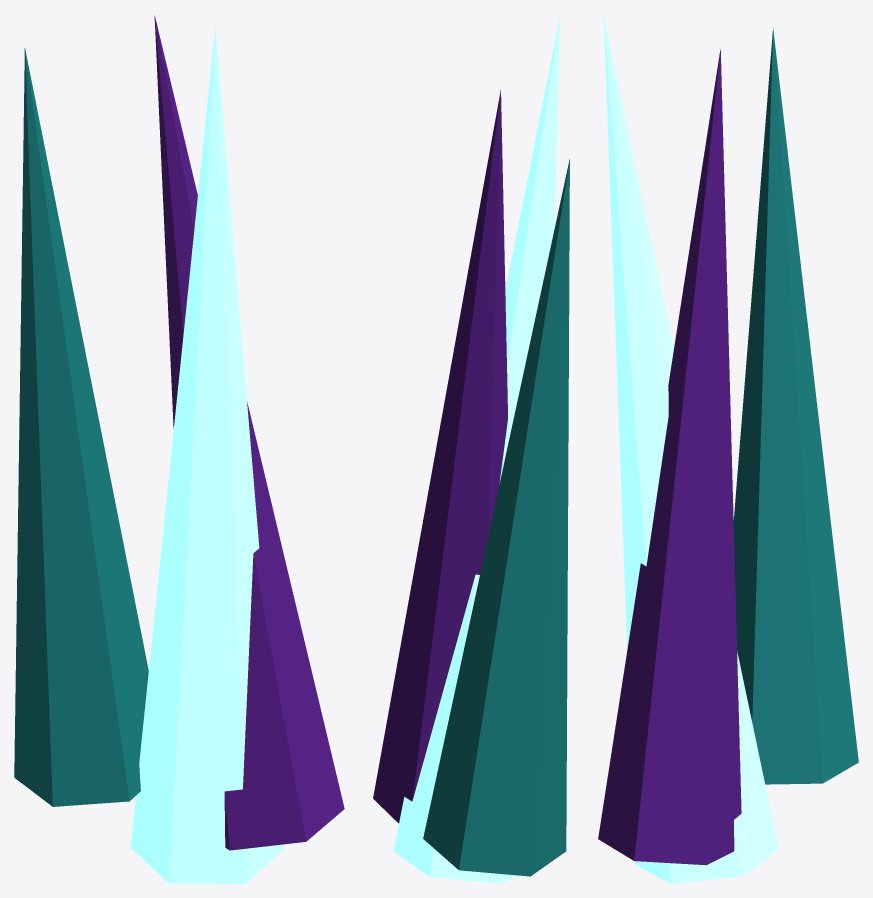
The model's file is Prop_OR_Crystal_16.glb.
The picture shows the model from 3 angles, left to right: view 1: azimuth 30°, elevation 25°; view 2: azimuth 150°, elevation 25°; view 3: azimuth 270°, elevation 25°; orthographic projection. The views are drawn at different scales.
Visible parts, largest first — view 1: Prop_OR_Crystal_16; view 2: Prop_OR_Crystal_16; view 3: Prop_OR_Crystal_16.
Boxes of the visible parts, x1,y1,x2,y2 form: Prop_OR_Crystal_16: [14, 15, 344, 883]; Prop_OR_Crystal_16: [373, 14, 569, 883]; Prop_OR_Crystal_16: [598, 15, 858, 883].
Bounding box in the file's own units: 0.4616 × 1.58 × 0.4507.
